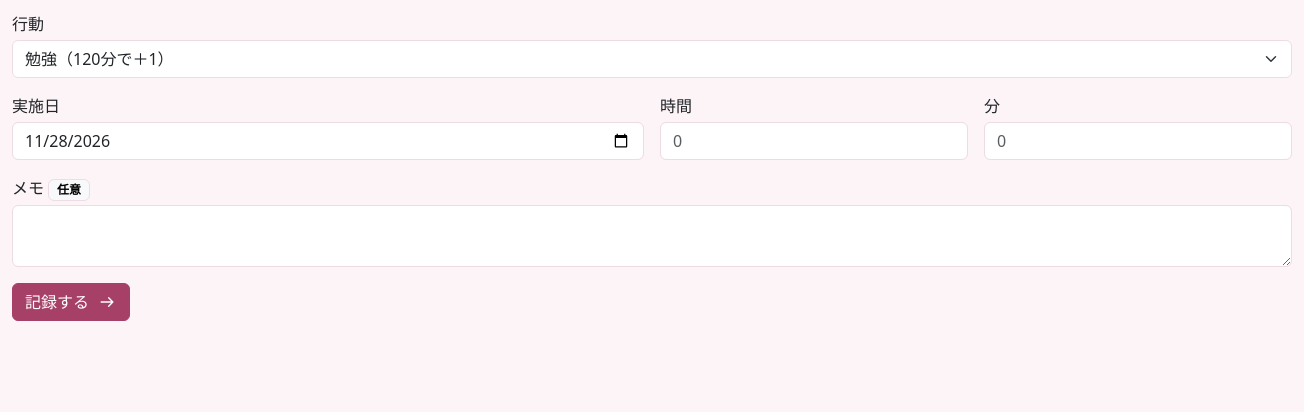
Test case: ゼロの記録を送信しない
Click the button "記録する".
click(71, 302)  # box [12,283,130,321]
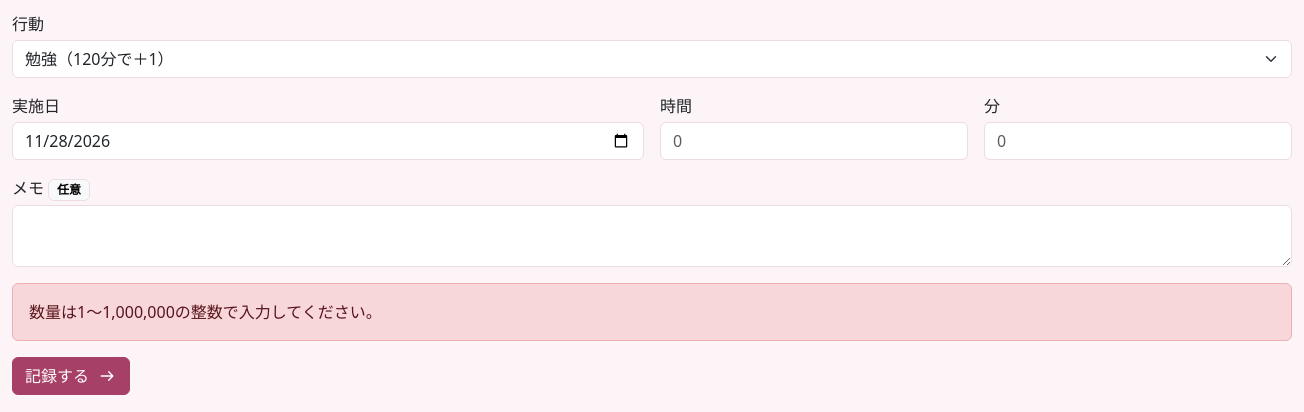
expect the message shows "整数": met, box [12,283,1292,341]
